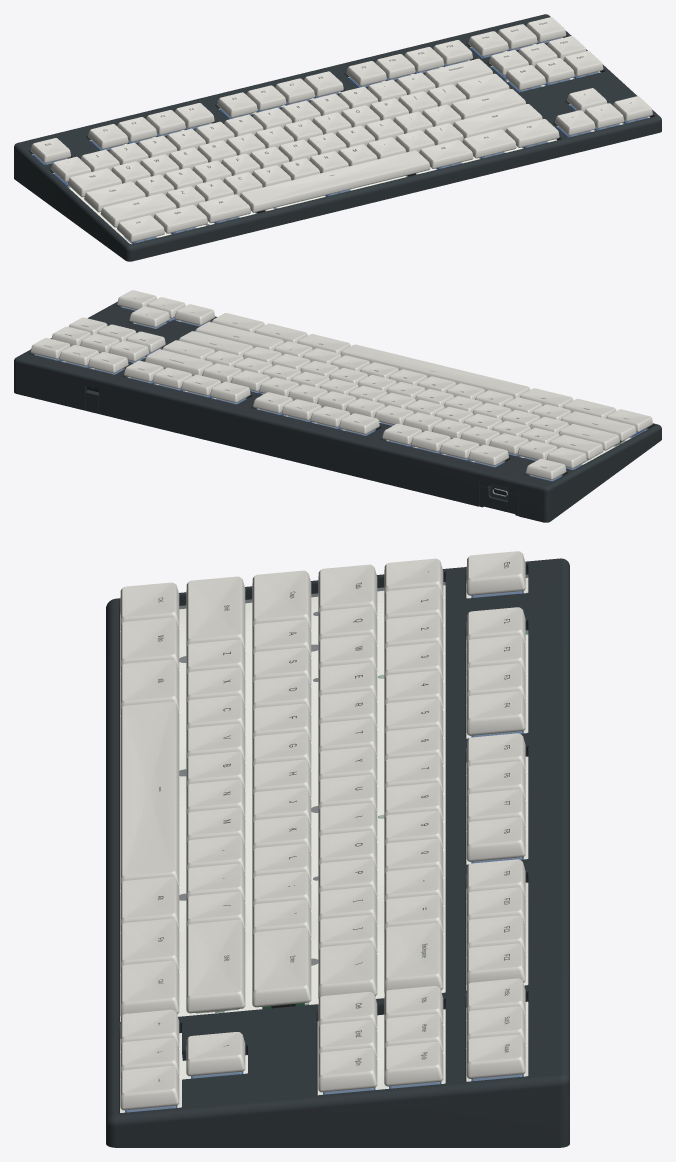
The model's file is v10-raised-etched-acrylic.glb.
The picture shows the model from 3 angles, top to bottom: view 1: azimuth 30°, elevation 25°; view 2: azimuth 150°, elevation 25°; view 3: azimuth 270°, elevation 25°; orthographic projection. The views are drawn at different scales.
Parts seen in each view (by area): view 1: raised opaque support frame, SW79 XVX Skyline R2 BOW Space keycap, SW70 XVX Skyline R2 BOW Shift keycap, SW64 XVX Skyline R2 BOW Shift keycap, SW57 XVX Skyline R2 BOW Enter keycap, SW31 XVX Skyline R2 BOW Backspace keycap, SW51 XVX Skyline R2 BOW Caps keycap, SW83 XVX Skyline R2 BOW Win keycap, SW80 XVX Skyline R2 BOW Fn keycap, SW78 XVX Skyline R2 BOW Alt keycap, SW81 XVX Skyline R2 BOW Ctrl keycap, SW84 XVX Skyline R2 BOW Alt keycap (+77 smaller); view 2: raised opaque support frame, SW79 XVX Skyline R2 BOW Space keycap, SW70 XVX Skyline R2 BOW Shift keycap, SW31 XVX Skyline R2 BOW Backspace keycap, SW64 XVX Skyline R2 BOW Shift keycap, SW57 XVX Skyline R2 BOW Enter keycap, SW51 XVX Skyline R2 BOW Caps keycap, bezel, SW34 XVX Skyline R2 BOW Tab keycap, SW76 XVX Skyline R2 BOW ↑ keycap, SW1 XVX Skyline R2 BOW Esc keycap, SW85 XVX Skyline R2 BOW ← keycap (+77 smaller); view 3: raised opaque support frame, raised white reflector backing, raised acrylic switch plate, SW79 XVX Skyline R2 BOW Space keycap, SW70 XVX Skyline R2 BOW Shift keycap, SW57 XVX Skyline R2 BOW Enter keycap, SW64 XVX Skyline R2 BOW Shift keycap, SW31 XVX Skyline R2 BOW Backspace keycap, SW51 XVX Skyline R2 BOW Caps keycap, SW81 XVX Skyline R2 BOW Ctrl keycap, SW41 XVX Skyline R2 BOW \ keycap, SW78 XVX Skyline R2 BOW Alt keycap (+77 smaller).
Boxes of the visible parts, left/top/right/bottom form: raised opaque support frame: left=14, top=14, right=661, bottom=261; SW79 XVX Skyline R2 BOW Space keycap: left=240, top=150, right=430, bottom=212; SW70 XVX Skyline R2 BOW Shift keycap: left=453, top=104, right=542, bottom=138; SW64 XVX Skyline R2 BOW Shift keycap: left=100, top=193, right=176, bottom=227; SW57 XVX Skyline R2 BOW Enter keycap: left=451, top=89, right=525, bottom=119; SW31 XVX Skyline R2 BOW Backspace keycap: left=425, top=58, right=492, bottom=87; SW51 XVX Skyline R2 BOW Caps keycap: left=84, top=181, right=145, bottom=212; SW83 XVX Skyline R2 BOW Win keycap: left=153, top=204, right=207, bottom=233; SW80 XVX Skyline R2 BOW Fn keycap: left=462, top=129, right=516, bottom=158; SW78 XVX Skyline R2 BOW Alt keycap: left=197, top=194, right=250, bottom=223; SW81 XVX Skyline R2 BOW Ctrl keycap: left=505, top=119, right=559, bottom=147; SW84 XVX Skyline R2 BOW Alt keycap: left=419, top=140, right=473, bottom=168; raised opaque support frame: left=14, top=302, right=661, bottom=522; SW79 XVX Skyline R2 BOW Space keycap: left=340, top=344, right=530, bottom=398; SW70 XVX Skyline R2 BOW Shift keycap: left=195, top=322, right=283, bottom=350; SW31 XVX Skyline R2 BOW Backspace keycap: left=144, top=349, right=212, bottom=375; SW64 XVX Skyline R2 BOW Shift keycap: left=561, top=411, right=636, bottom=441; SW57 XVX Skyline R2 BOW Enter keycap: left=178, top=331, right=253, bottom=356; SW51 XVX Skyline R2 BOW Caps keycap: left=559, top=424, right=619, bottom=450; bezel: left=479, top=485, right=518, bottom=514; SW34 XVX Skyline R2 BOW Tab keycap: left=549, top=434, right=603, bottom=459; SW76 XVX Skyline R2 BOW ↑ keycap: left=129, top=306, right=169, bottom=327; SW1 XVX Skyline R2 BOW Esc keycap: left=525, top=458, right=566, bottom=479; SW85 XVX Skyline R2 BOW ← keycap: left=174, top=304, right=214, bottom=325; raised opaque support frame: left=106, top=558, right=569, bottom=1147; raised white reflector backing: left=120, top=578, right=528, bottom=1112; raised acrylic switch plate: left=120, top=575, right=527, bottom=1112; SW79 XVX Skyline R2 BOW Space keycap: left=120, top=701, right=179, bottom=889; SW70 XVX Skyline R2 BOW Shift keycap: left=186, top=919, right=245, bottom=1013; SW57 XVX Skyline R2 BOW Enter keycap: left=252, top=927, right=311, bottom=1007; SW64 XVX Skyline R2 BOW Shift keycap: left=186, top=576, right=245, bottom=652; SW31 XVX Skyline R2 BOW Backspace keycap: left=384, top=923, right=443, bottom=993; SW51 XVX Skyline R2 BOW Caps keycap: left=252, top=570, right=311, bottom=631; SW81 XVX Skyline R2 BOW Ctrl keycap: left=120, top=960, right=179, bottom=1017; SW41 XVX Skyline R2 BOW \ keycap: left=318, top=943, right=377, bottom=999; SW78 XVX Skyline R2 BOW Alt keycap: left=120, top=659, right=179, bottom=714.
Size of the model in its own units: 356 by 26.05 by 133.
Materials: 103 (86 with a texture image).
